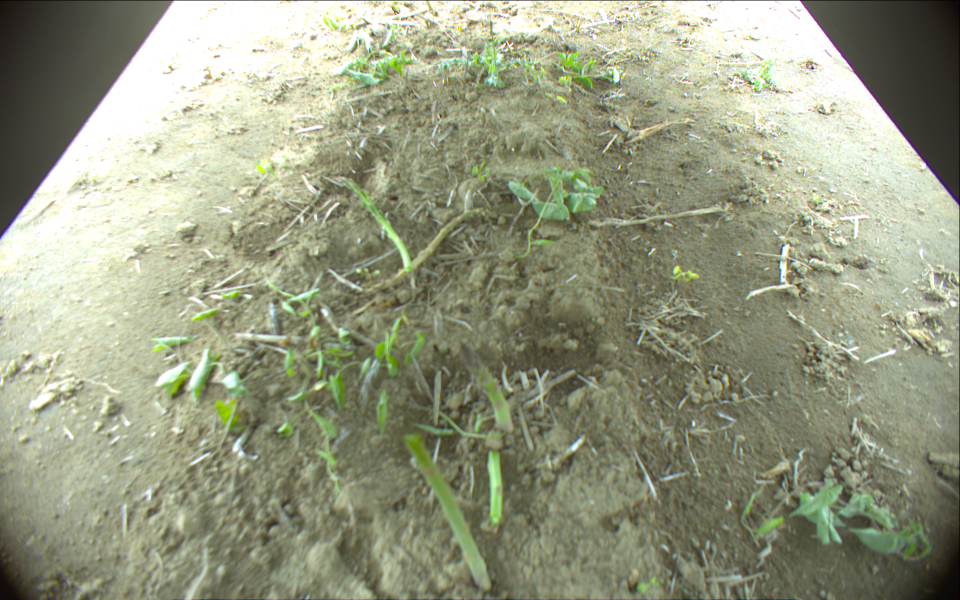aspa: (405, 432, 494, 594), (362, 211, 492, 295), (341, 176, 418, 285), (460, 343, 513, 432), (488, 448, 504, 526)
